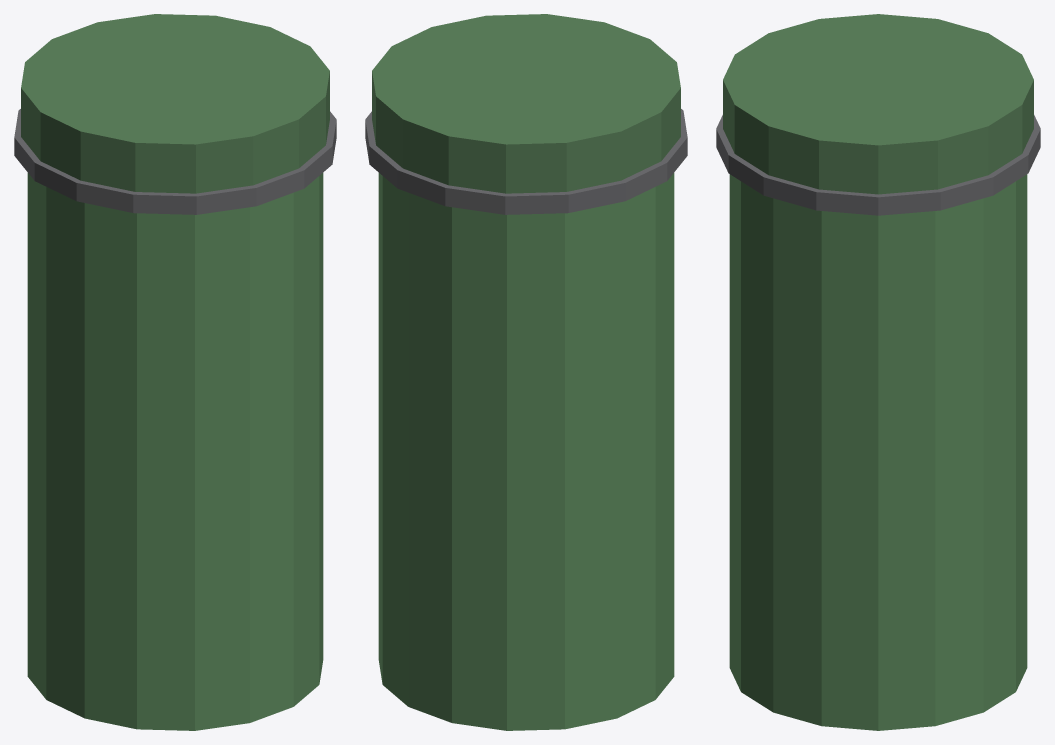
File: trash_bin.glb
3 views of the same model, side by side, from view 1: azimuth 30°, elevation 25°; view 2: azimuth 150°, elevation 25°; view 3: azimuth 270°, elevation 25° (orthographic).
Visible parts, largest first — view 1: TrashBin; view 2: TrashBin; view 3: TrashBin.
Part boxes in pixels (box(x1,y1,x2,y2)): TrashBin: box(14, 14, 336, 730); TrashBin: box(365, 14, 687, 730); TrashBin: box(716, 14, 1040, 730).
Bounding box in the file's own units: 0.48 × 0.96 × 0.48.
